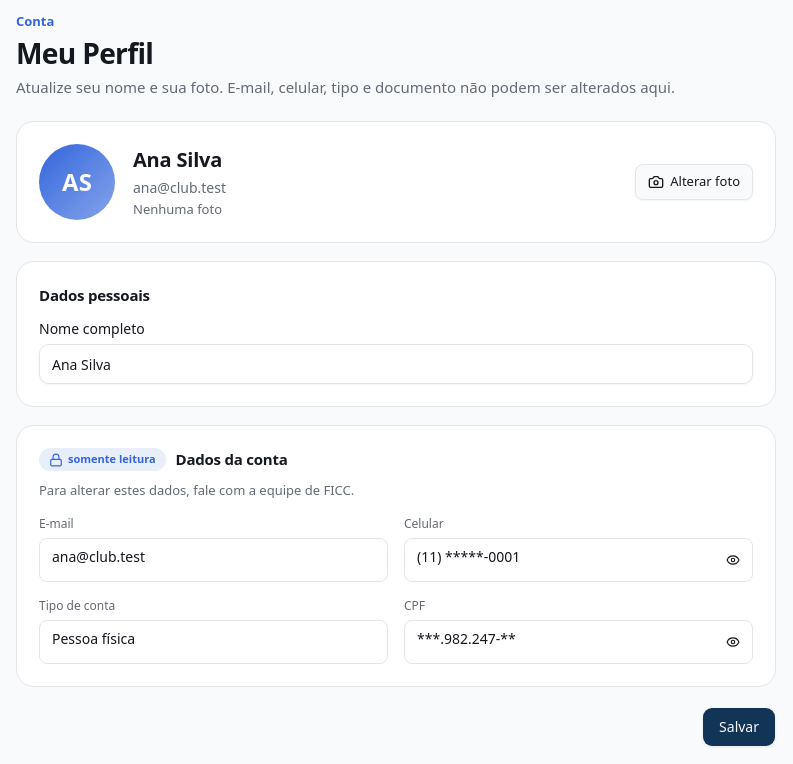
Test case: TenantPortalProfilePage validity gate › reveals CPF and phone only after the visitor asks
Expected: the text "***.982.247-**" is shown, [404,620,753,664]
Expected: the text "(11) *****-0001" is shown, [404,538,753,582]
Click the button named "Mostrar CPF": click(733, 642) [717,626,749,658]
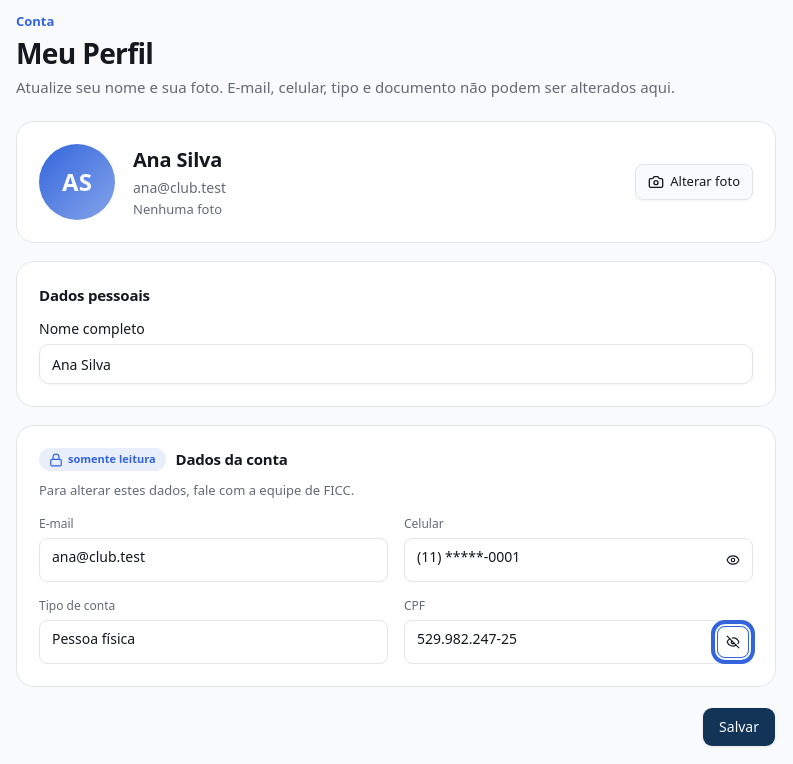
Expected: the text "(11) 98888-0001" is not shown
Result: the text "529.982.247-25" is shown at [404,620,753,664]
Result: the text "***.982.247-**" is gone
Click the button named "Mostrar Celular": click(733, 560) [717,544,749,576]
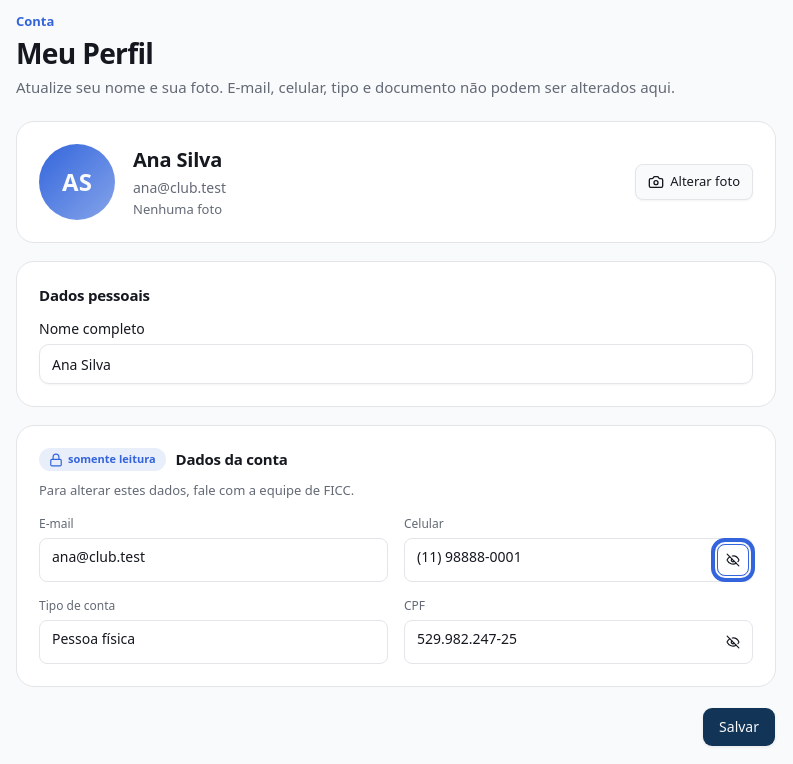
Result: the text "(11) 98888-0001" is shown at [404,538,753,582]
